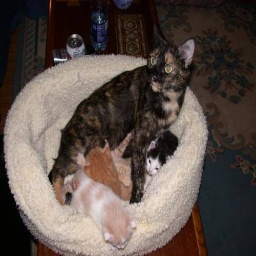cat: (49, 24, 196, 211)
